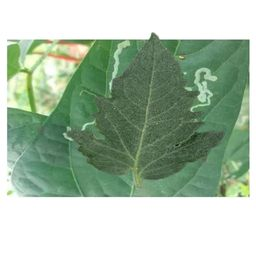liriomyza: (183, 66, 218, 111), (106, 40, 130, 92), (80, 118, 96, 133), (63, 125, 74, 142)
